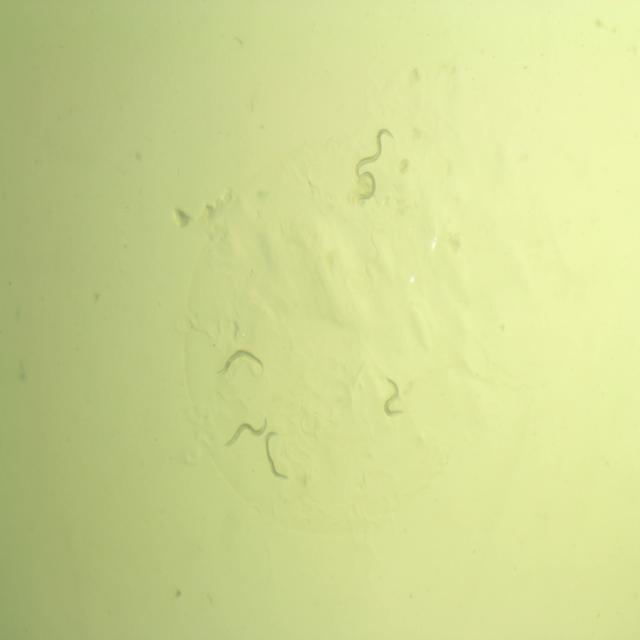worm: (351, 124, 398, 182), (222, 408, 270, 452), (213, 344, 270, 378), (262, 426, 294, 484), (381, 370, 408, 422), (353, 168, 378, 205)
